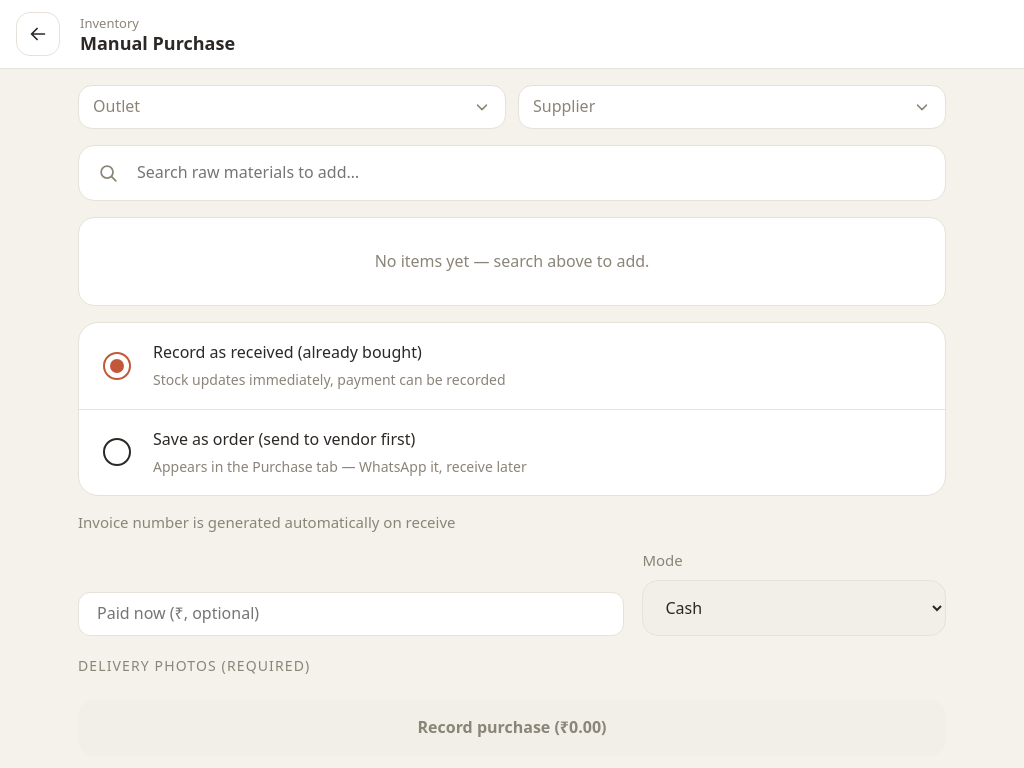
Manual Purchase screen › MPW-2. lines as the reference draws them: qty, rate, GST slab, into stock; totals follow every edit
Check: the button with aria-label "Outlet: none chosen" is shown, box [78, 85, 506, 129]
Type "sug" into the search field with placeholder "Search raw materials to add…" at (531, 173), box [135, 151, 927, 195]
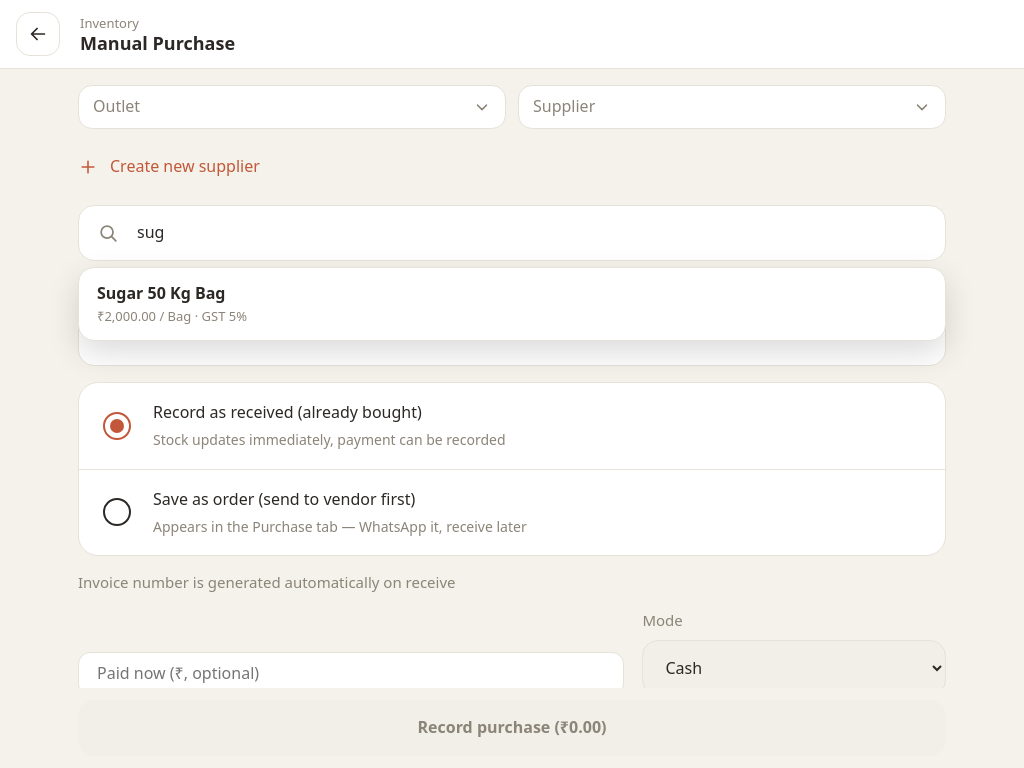
Click the button "Sugar 50 Kg Bag ₹2,000.00 / Bag · GST 5%" at (161, 293), box [85, 274, 939, 334]
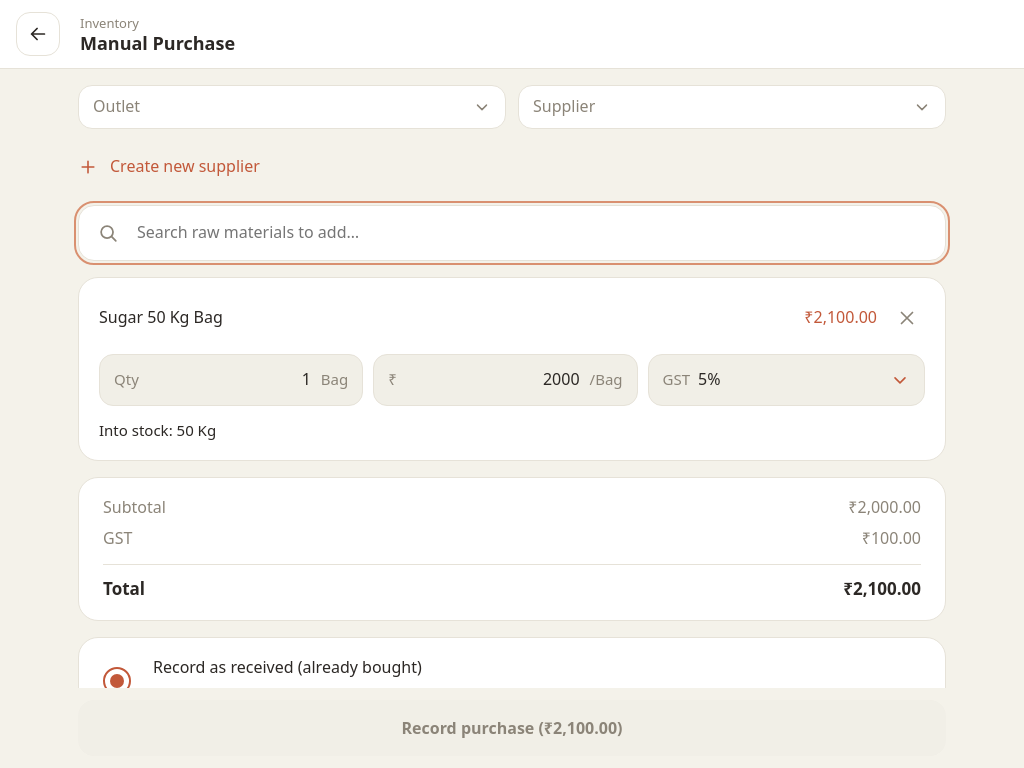
Check: the field named "Qty (Bag)" holds "1"
Check: the field named "Rate (₹ / Bag)" holds "2000", box [405, 358, 582, 402]
Check: the dropdown named "GST on Sugar 50 Kg Bag" shows "5%", box [698, 358, 882, 402]
Replace the text in the field named "Qty (Bag)" with "2" at (230, 380), box [147, 358, 313, 402]
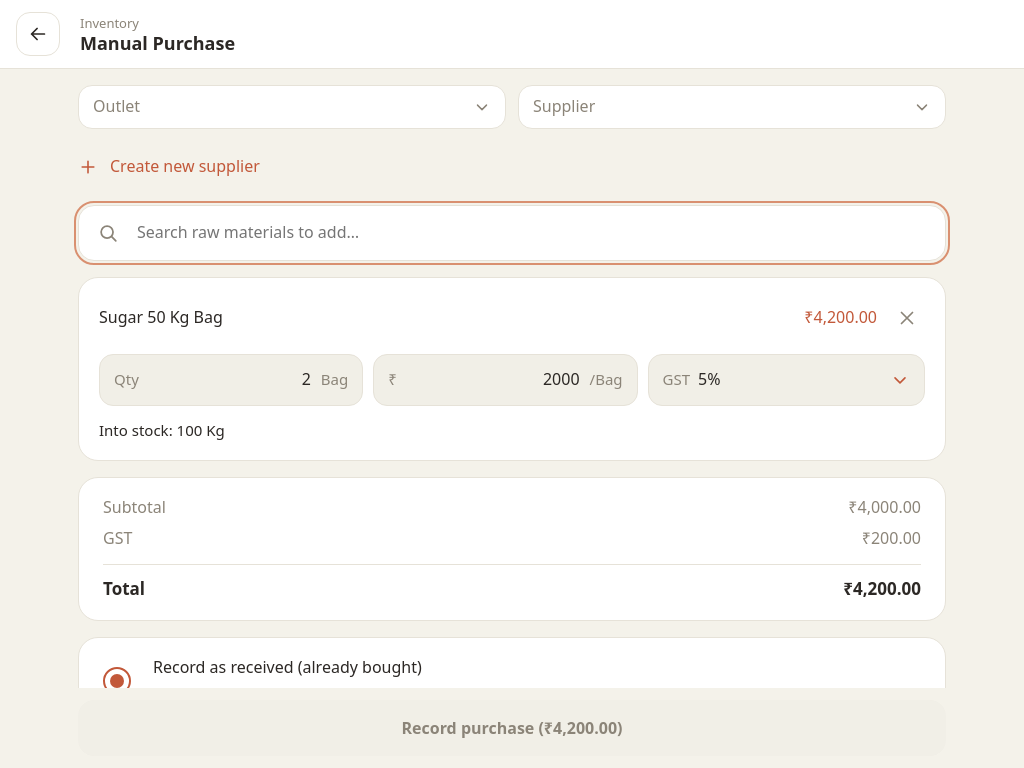
Select "18%" in the dropdown named "GST on Sugar 50 Kg Bag" at (790, 380), box [698, 358, 882, 402]
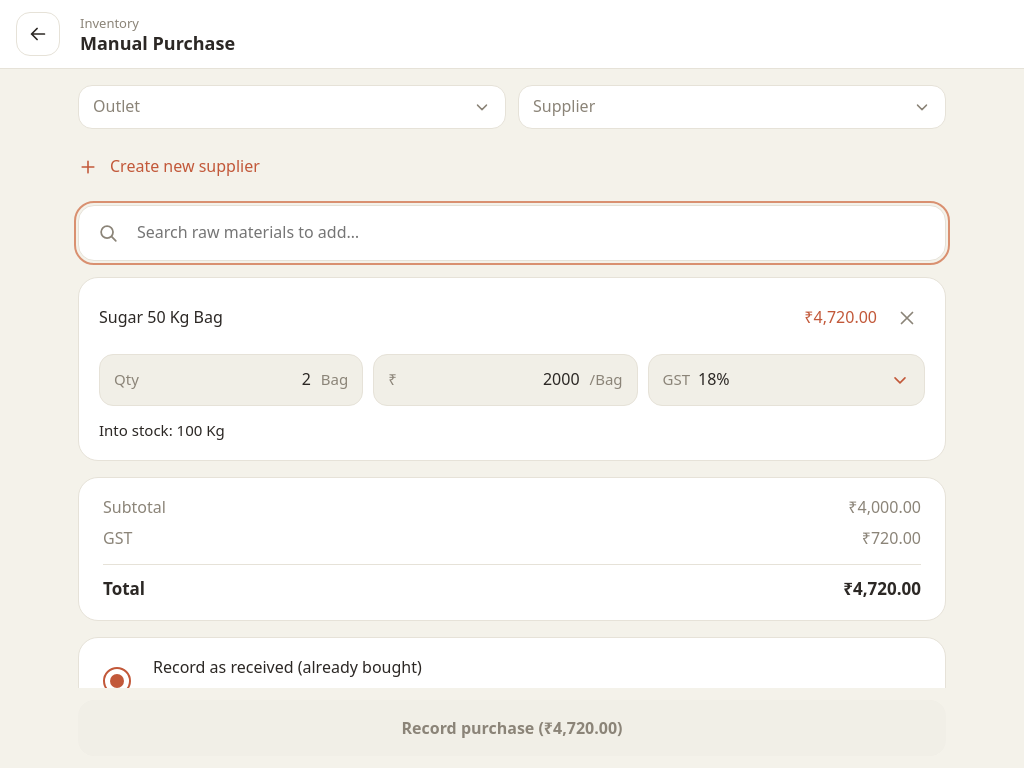
Check: the text "Into stock: 100 Kg" is shown, box [99, 420, 225, 440]
Check: the text "₹4,000.00" is shown, box [848, 496, 921, 519]
Check: the text "₹4,720.00" in the row of "Sugar 50 Kg Bag" is shown, box [804, 306, 877, 328]
Type "sug" into the search field with placeholder "Search raw materials to add…" at (531, 233), box [135, 211, 927, 255]
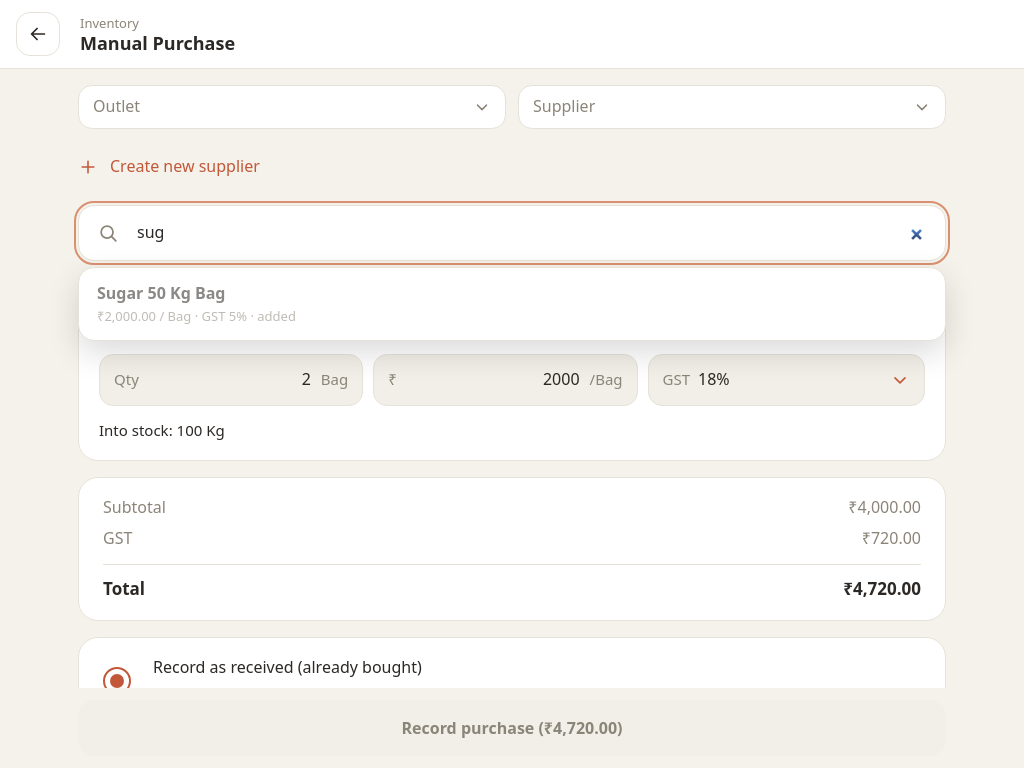
Check: the button "Sugar 50 Kg Bag ₹2,000.00 / Bag · GST 5% · added" is disabled, box [85, 274, 939, 334]
